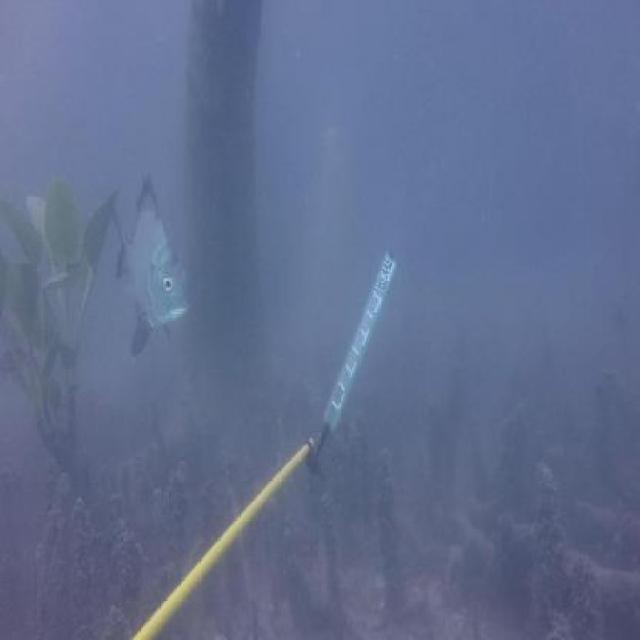acanthopagrus_palmaris: (111, 172, 194, 356)
